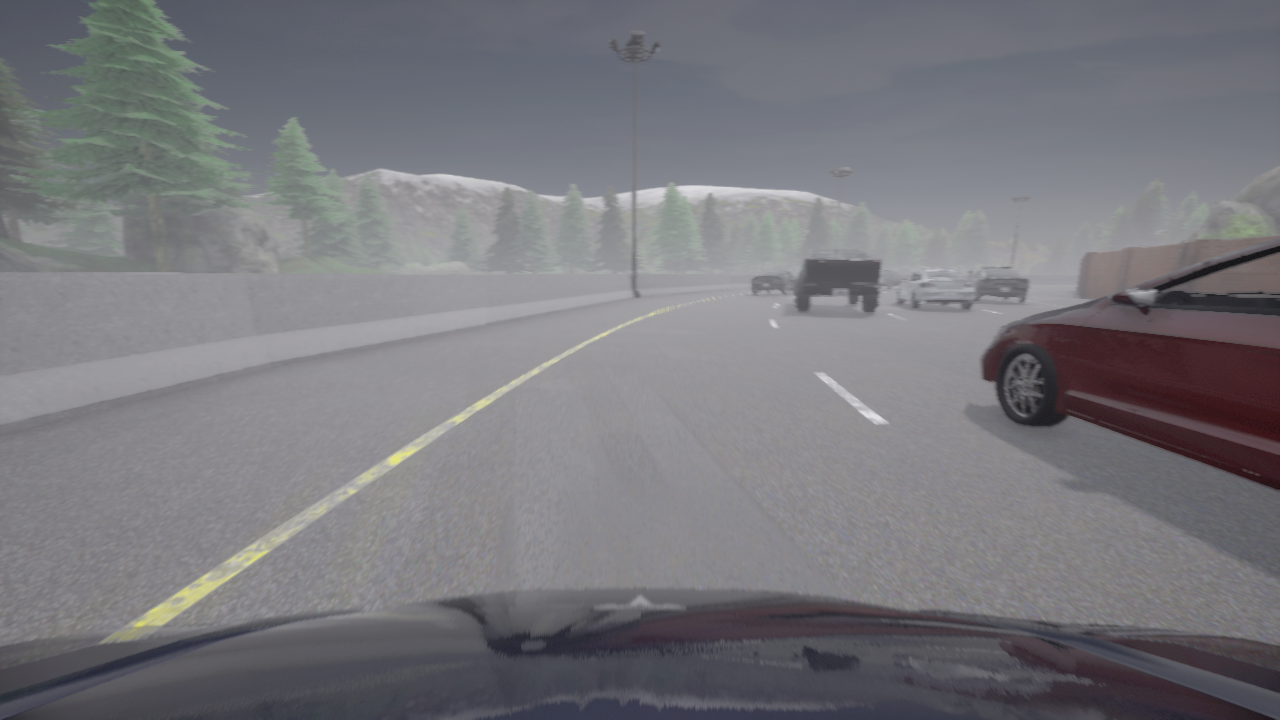cyclist: (0, 588, 1279, 719), (981, 238, 1279, 490), (794, 249, 882, 313), (897, 268, 974, 309), (967, 266, 1028, 302), (752, 268, 796, 295), (879, 271, 903, 289)
